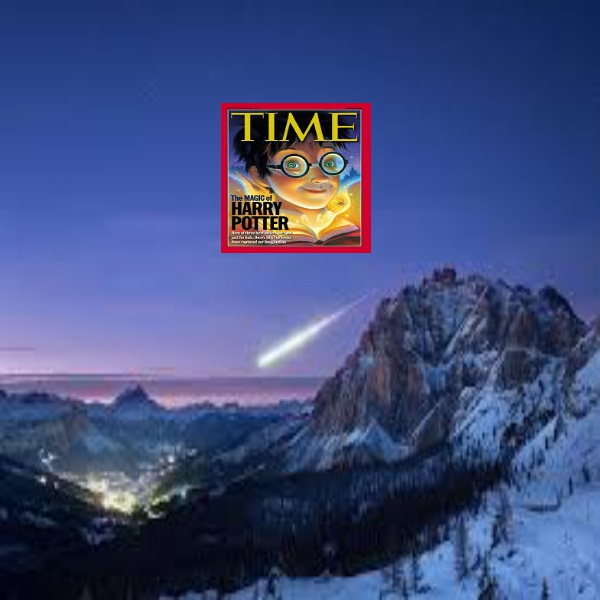time_cover: (218, 94, 369, 250)
